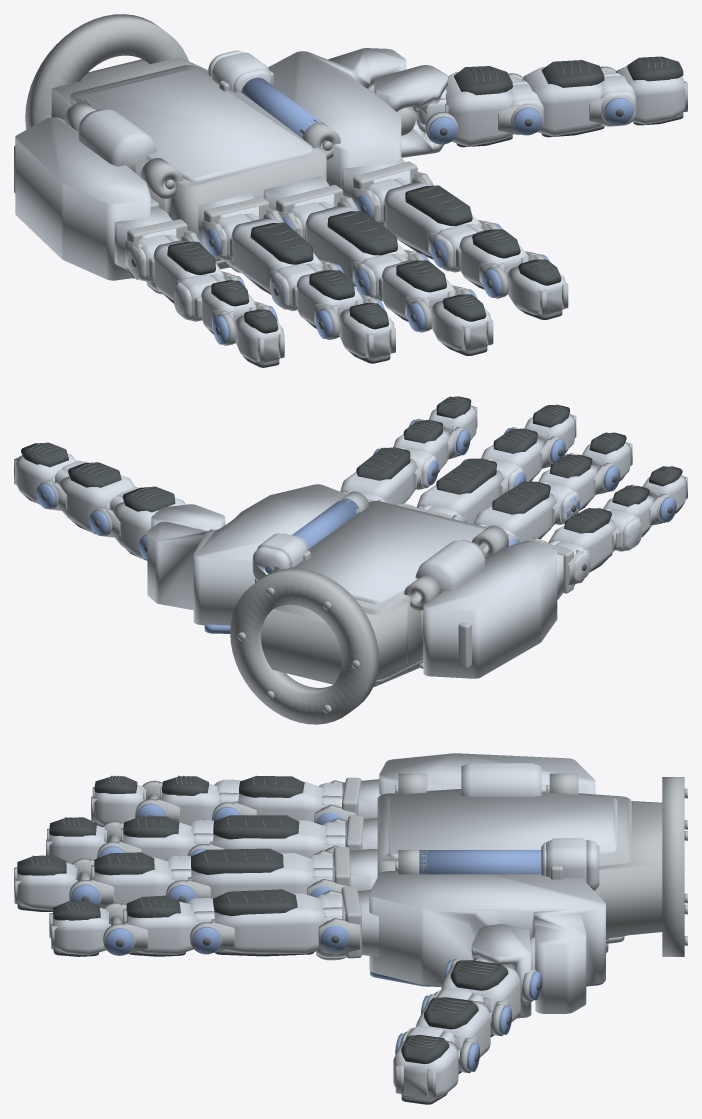
Rendered from kestrel17.glb.
3 views of the same model, one above another, from view 1: azimuth 30°, elevation 25°; view 2: azimuth 150°, elevation 25°; view 3: azimuth 270°, elevation 25° (orthographic). The views are drawn at different scales.
Parts seen in each view (by area): view 1: visual__palm_ulnar_wing__0, visual__central_palm__1, visual__central_palm__0, visual__palm_radial_wing__0, visual__thumb_proximal__0, visual__thumb_oppose_link__1, visual__thumb_metacarpal__0, visual__ring_proximal__0, visual__index_proximal__0, visual__middle_proximal__0, visual__little_proximal__0, visual__thumb_distal__0 (+43 smaller); view 2: visual__central_palm__0, visual__palm_ulnar_wing__0, visual__palm_radial_wing__0, visual__central_palm__1, visual__ring_proximal__0, visual__middle_proximal__0, visual__little_proximal__0, visual__palm_ulnar_wing__1, visual__index_proximal__0, visual__thumb_proximal__0, visual__palm_radial_wing__1, visual__thumb_metacarpal__0 (+26 smaller); view 3: visual__palm_radial_wing__0, visual__central_palm__1, visual__central_palm__0, visual__palm_ulnar_wing__0, visual__index_proximal__0, visual__palm_radial_wing__1, visual__middle_proximal__0, visual__thumb_oppose_link__1, visual__ring_proximal__0, visual__little_proximal__0, visual__thumb_distal__0, visual__index_middle__0 (+41 smaller).
Boxes of the visible parts, <box> form: visual__palm_ulnar_wing__0: <box>15,109,179,294</box>; visual__central_palm__1: <box>84,50,334,273</box>; visual__central_palm__0: <box>25,14,326,264</box>; visual__palm_radial_wing__0: <box>268,48,410,228</box>; visual__thumb_proximal__0: <box>523,67,636,136</box>; visual__thumb_oppose_link__1: <box>374,65,447,157</box>; visual__thumb_metacarpal__0: <box>445,72,543,146</box>; visual__ring_proximal__0: <box>231,218,323,311</box>; visual__index_proximal__0: <box>384,182,483,272</box>; visual__middle_proximal__0: <box>305,206,407,301</box>; visual__little_proximal__0: <box>153,240,226,321</box>; visual__thumb_distal__0: <box>615,66,685,124</box>; visual__central_palm__0: <box>230,501,487,724</box>; visual__palm_ulnar_wing__0: <box>415,540,575,678</box>; visual__palm_radial_wing__0: <box>147,484,346,625</box>; visual__central_palm__1: <box>252,503,482,687</box>; visual__ring_proximal__0: <box>473,482,579,542</box>; visual__middle_proximal__0: <box>417,459,524,523</box>; visual__little_proximal__0: <box>548,508,641,570</box>; visual__palm_ulnar_wing__1: <box>404,525,508,668</box>; visual__index_proximal__0: <box>340,447,437,505</box>; visual__thumb_proximal__0: <box>55,460,134,532</box>; visual__palm_radial_wing__1: <box>204,498,360,633</box>; visual__thumb_metacarpal__0: <box>110,486,185,558</box>; visual__palm_radial_wing__0: <box>315,870,605,1013</box>; visual__central_palm__1: <box>314,790,624,952</box>; visual__central_palm__0: <box>377,777,687,956</box>; visual__palm_ulnar_wing__0: <box>322,753,595,818</box>; visual__index_proximal__0: <box>186,893,324,954</box>; visual__palm_radial_wing__1: <box>370,850,603,986</box>; visual__middle_proximal__0: <box>165,852,313,898</box>; visual__thumb_oppose_link__1: <box>471,924,531,1018</box>; visual__ring_proximal__0: <box>188,820,325,857</box>; visual__little_proximal__0: <box>214,779,322,822</box>; visual__thumb_distal__0: <box>393,1040,458,1098</box>; visual__index_middle__0: <box>126,901,195,955</box>.
Size of the model in its own units: 0.2162 by 0.056 by 0.2096.
